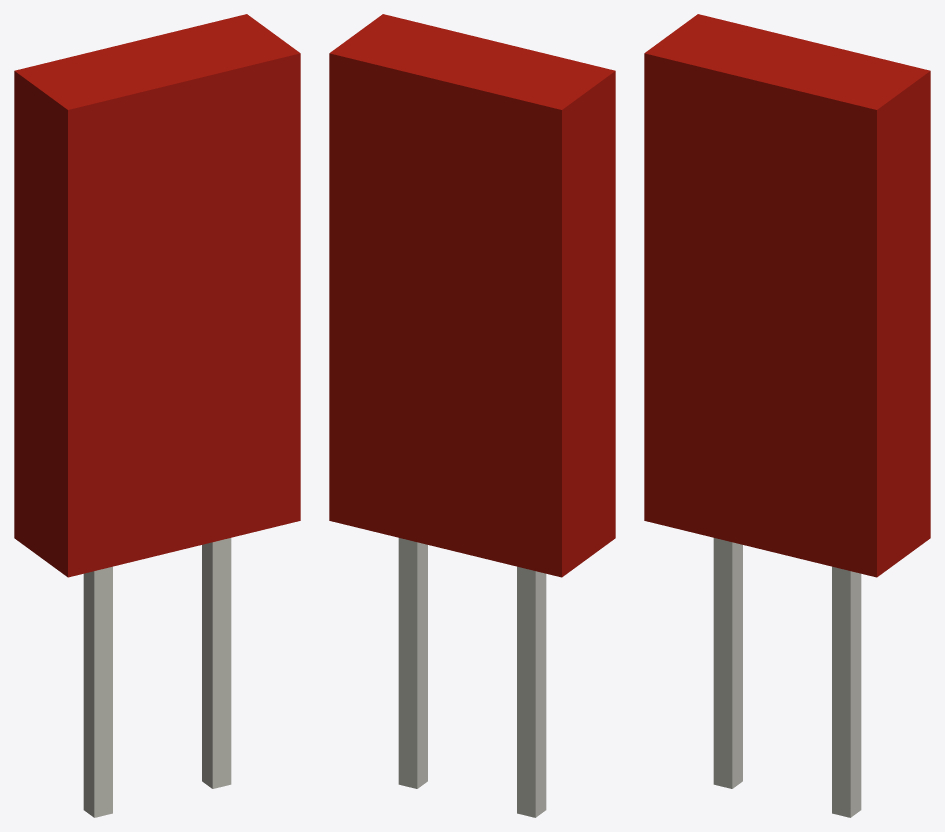
File: kc-led_rectangular_w5.0mm_h2.0mm.glb
The picture shows the model from 3 angles, left to right: view 1: azimuth 30°, elevation 25°; view 2: azimuth 150°, elevation 25°; view 3: azimuth 330°, elevation 25°; orthographic projection.
Parts seen in each view (by area): view 1: 0.4166666666666667_0_0_0, 0.6666666666666666_0.6666666666666666_0.5833333333333334_0.8; view 2: 0.4166666666666667_0_0_0, 0.6666666666666666_0.6666666666666666_0.5833333333333334_0.8; view 3: 0.4166666666666667_0_0_0, 0.6666666666666666_0.6666666666666666_0.5833333333333334_0.8.
Boxes of the visible parts, x1=… form: 0.4166666666666667_0_0_0: x1=14, y1=14, x2=300, y2=577; 0.6666666666666666_0.6666666666666666_0.5833333333333334_0.8: x1=83, y1=538, x2=231, y2=817; 0.4166666666666667_0_0_0: x1=329, y1=14, x2=615, y2=577; 0.6666666666666666_0.6666666666666666_0.5833333333333334_0.8: x1=398, y1=538, x2=546, y2=817; 0.4166666666666667_0_0_0: x1=644, y1=14, x2=930, y2=577; 0.6666666666666666_0.6666666666666666_0.5833333333333334_0.8: x1=713, y1=538, x2=861, y2=817.
Size of the model in its own units: 0.5 by 1.51 by 0.1999.
